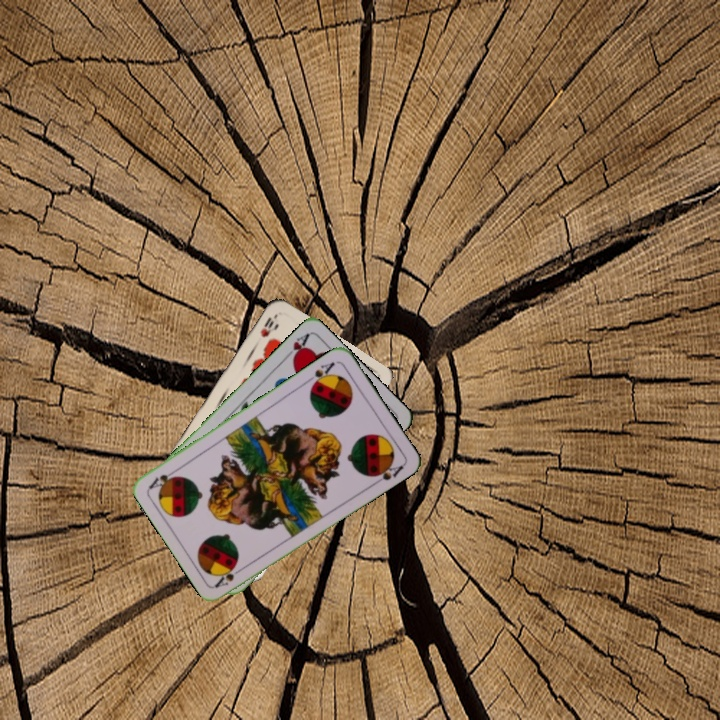H10: (256, 313, 276, 340)
HA: (280, 330, 311, 365)
SA: (211, 562, 248, 590), (307, 358, 337, 390)
